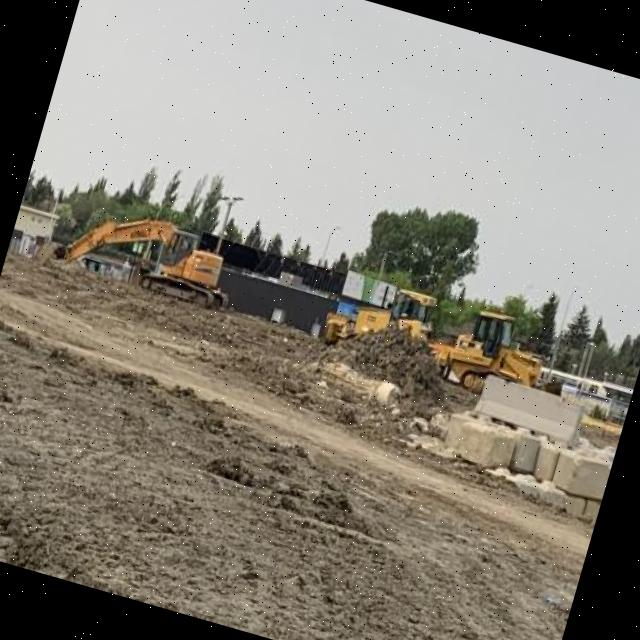Excavator: (51, 191, 248, 320)
